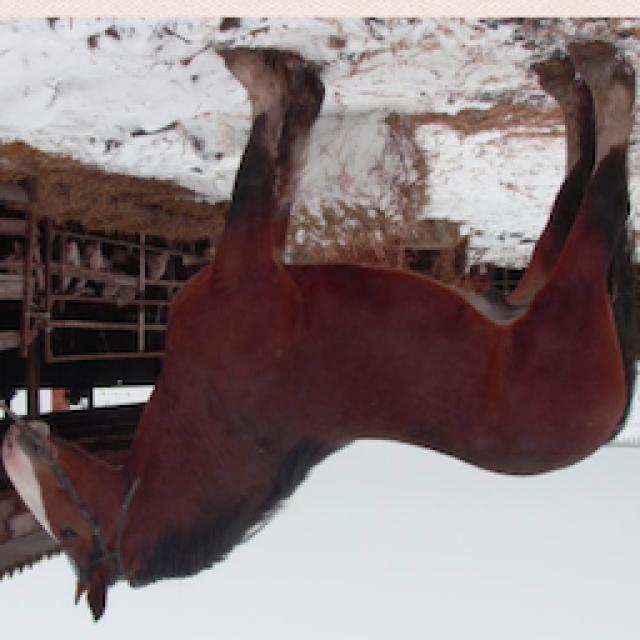Horse: (0, 37, 638, 625)
